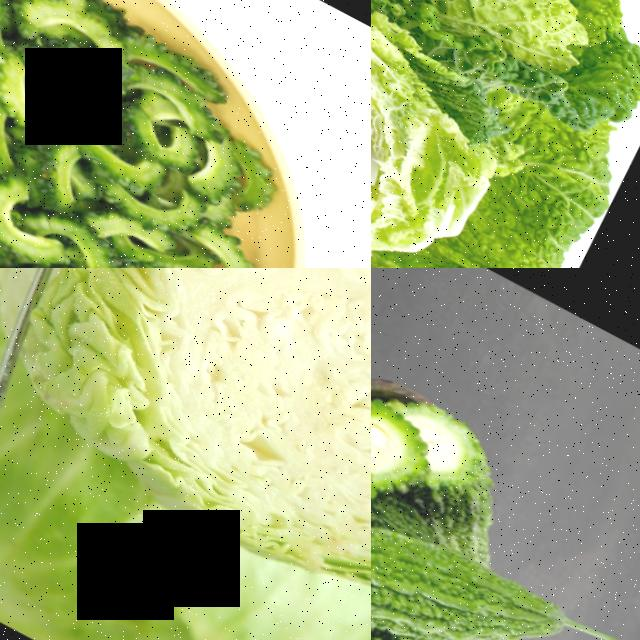bitter gourd: (371, 468, 552, 640), (401, 432, 520, 555), (371, 383, 429, 473)
cabbage: (0, 268, 371, 640), (371, 0, 500, 268), (371, 0, 636, 64)
